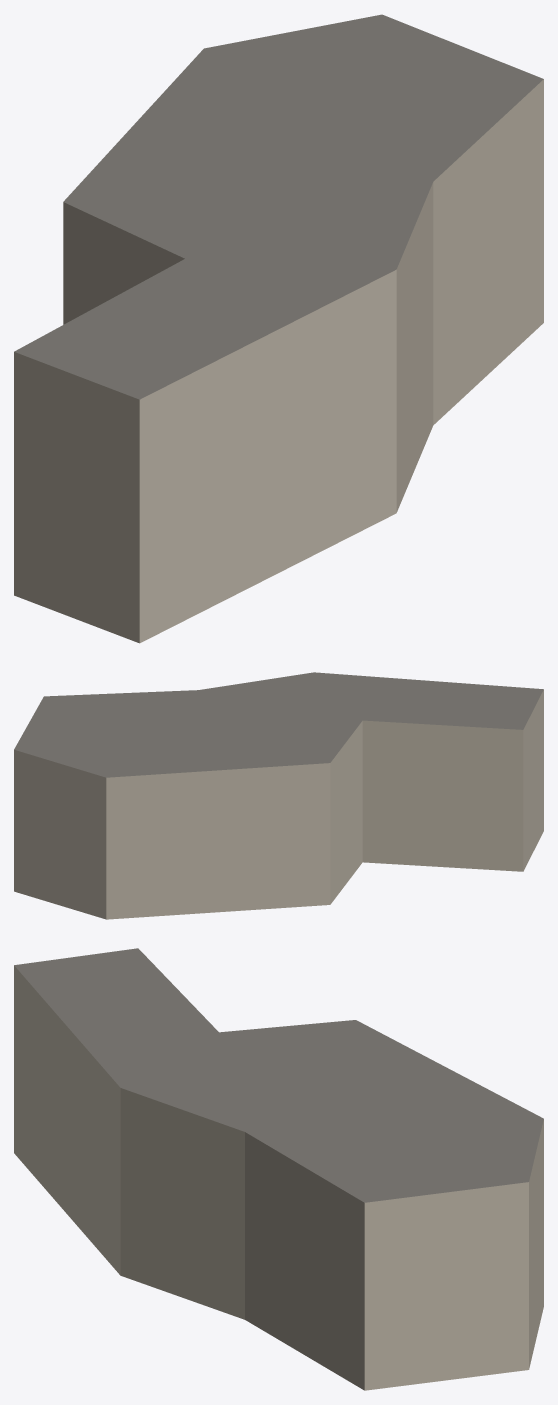
3 renders of one model, top to bottom at view 1: azimuth 30°, elevation 25°; view 2: azimuth 150°, elevation 25°; view 3: azimuth 270°, elevation 25°, orthographic. The views are drawn at different scales.
Visible parts, largest first — view 1: HP-w731233907; view 2: HP-w731233907; view 3: HP-w731233907.
Part boxes in pixels (box(x1,y1,x2,y2)): HP-w731233907: box(14, 14, 543, 643); HP-w731233907: box(14, 672, 543, 919); HP-w731233907: box(14, 948, 543, 1390).
Size of the model in its own units: 52.3 by 18 by 46.01.
